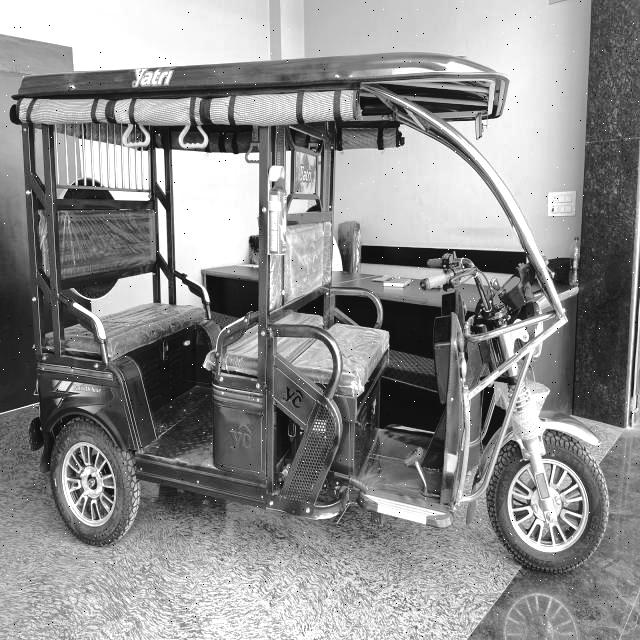Toto: (14, 59, 616, 581)
